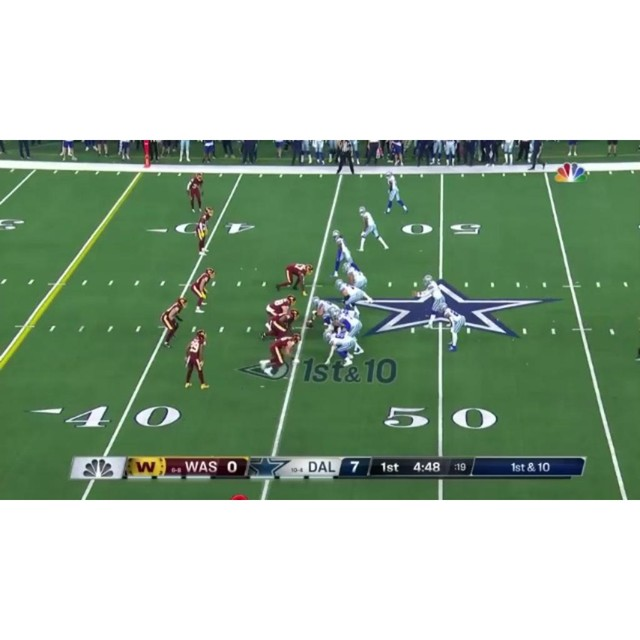american-football-player: (258, 334, 301, 378), (415, 274, 447, 328), (358, 205, 390, 252), (184, 330, 209, 390), (322, 329, 358, 368), (160, 296, 187, 348), (342, 259, 372, 302), (260, 309, 300, 341), (440, 303, 466, 351), (276, 263, 313, 296), (191, 267, 216, 312), (384, 171, 409, 214), (306, 296, 338, 329), (330, 230, 352, 277), (335, 279, 365, 312), (195, 206, 212, 255), (186, 171, 204, 212), (264, 296, 296, 319)
